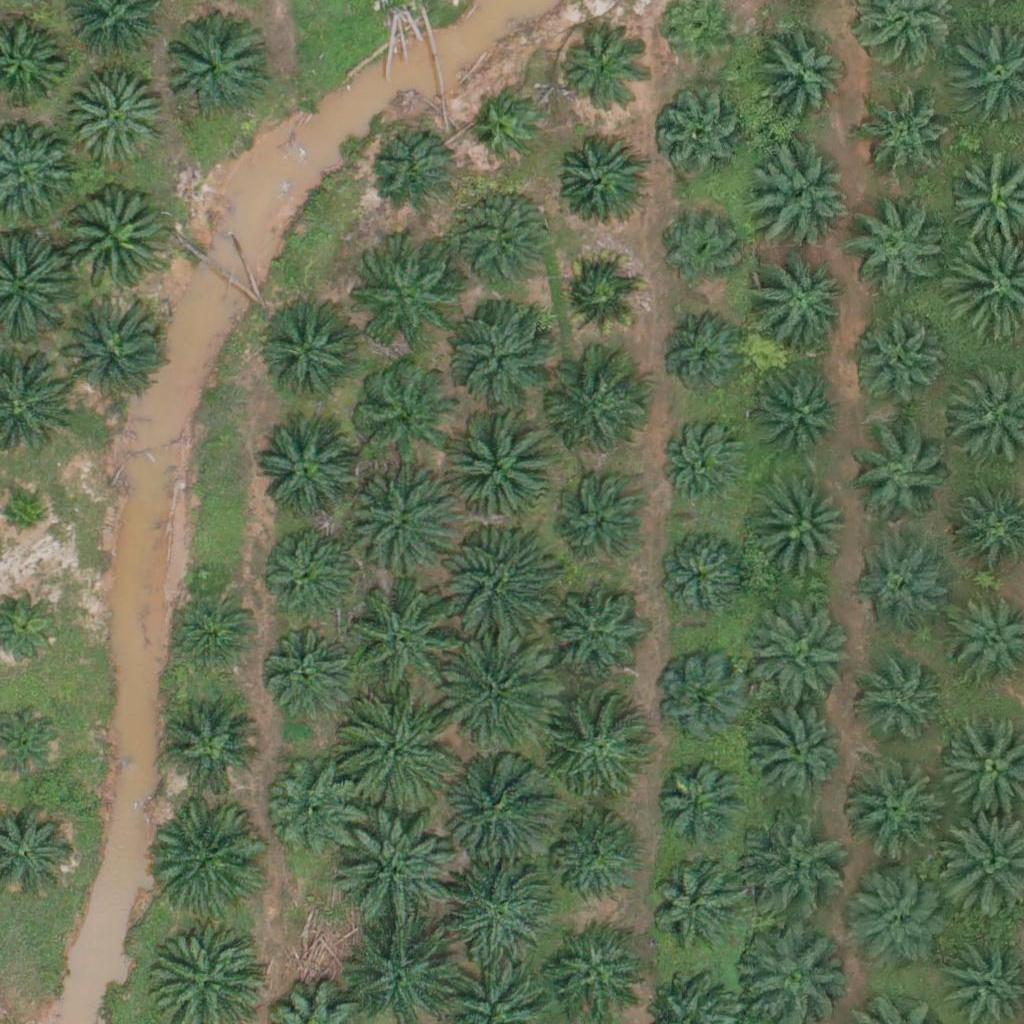Kelapa_Sawit: (152, 798, 265, 912), (836, 863, 949, 976), (336, 815, 449, 928), (445, 636, 558, 749), (445, 525, 558, 638), (444, 407, 557, 520), (445, 292, 558, 405), (342, 467, 455, 580), (344, 696, 457, 809), (837, 756, 949, 870), (441, 853, 553, 967), (746, 597, 858, 711), (449, 750, 561, 864), (740, 806, 852, 919), (541, 351, 653, 464), (543, 701, 655, 814), (349, 581, 461, 694), (57, 184, 169, 297), (54, 292, 166, 405), (845, 203, 945, 304), (847, 313, 947, 414), (852, 657, 952, 758), (752, 249, 852, 350), (652, 649, 752, 750), (544, 589, 644, 690), (346, 249, 446, 350), (352, 361, 452, 462), (258, 515, 358, 616), (258, 423, 358, 524), (264, 297, 364, 398), (160, 695, 260, 796), (161, 21, 261, 122), (68, 70, 168, 171), (850, 423, 950, 523), (850, 547, 950, 647), (751, 30, 851, 130), (754, 146, 854, 246), (755, 483, 855, 583), (748, 704, 848, 804), (653, 528, 753, 628), (453, 184, 553, 284), (265, 758, 365, 858), (261, 617, 361, 717), (650, 861, 738, 949), (547, 815, 635, 903), (867, 100, 955, 188), (754, 366, 842, 454), (653, 758, 741, 846), (659, 205, 747, 293), (660, 317, 748, 405), (660, 422, 748, 510), (368, 125, 456, 213), (657, 88, 744, 176), (559, 29, 646, 117), (555, 134, 642, 222), (555, 252, 642, 340), (552, 473, 639, 561), (167, 583, 254, 671), (471, 91, 546, 167)
